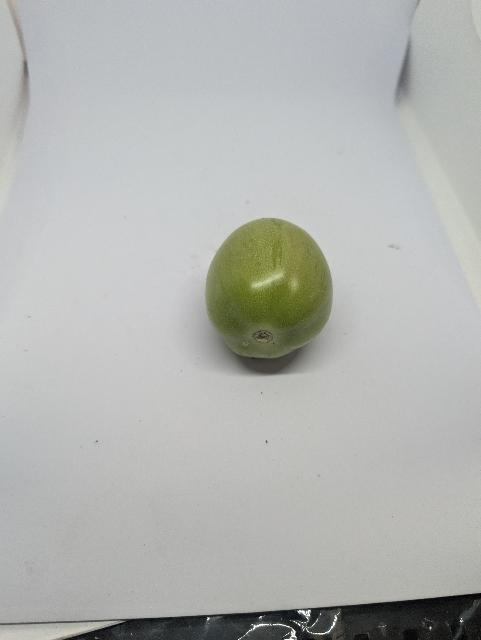green: (203, 216, 337, 363)
